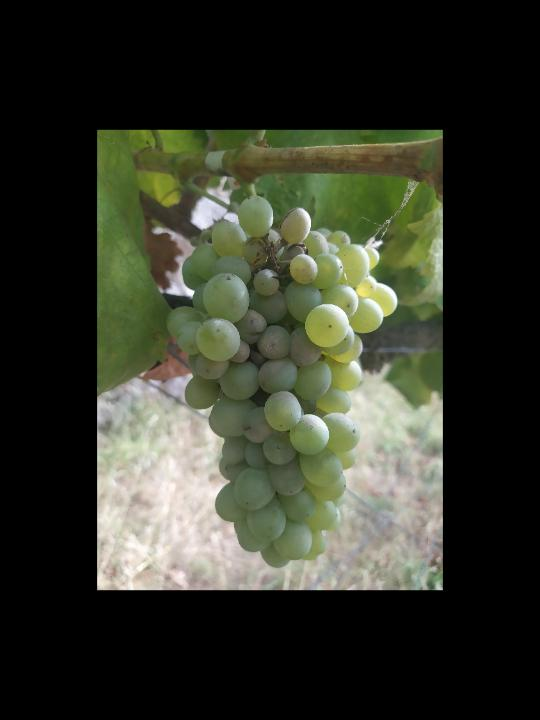grape: (164, 196, 402, 568)
